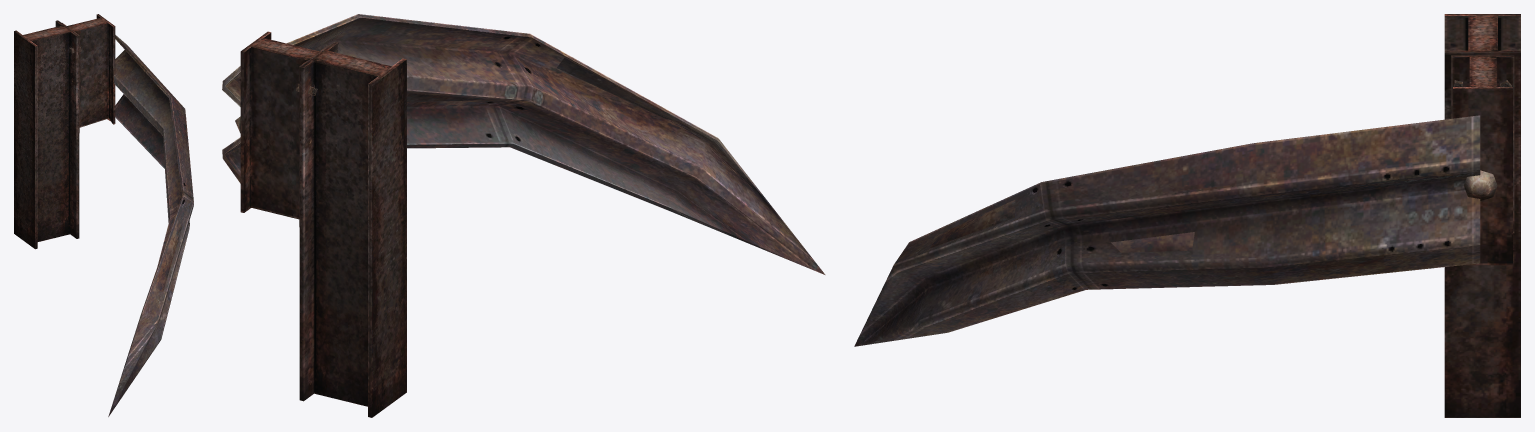
File: GuardRailRightEnd.FBX
3 renders of one model, left to right at view 1: azimuth 30°, elevation 25°; view 2: azimuth 150°, elevation 25°; view 3: azimuth 270°, elevation 25°, orthographic. The views are drawn at different scales.
Visible parts, largest first — view 1: GR_EndRight:0; view 2: GR_EndRight:0; view 3: GR_EndRight:0.
Boxes of the visible parts, x1,y1,x2,y2 form: GR_EndRight:0: (14,14,193,416); GR_EndRight:0: (222,14,825,417); GR_EndRight:0: (854,14,1520,417).
Size of the model in its own units: 1.07 by 1.21 by 1.77.
